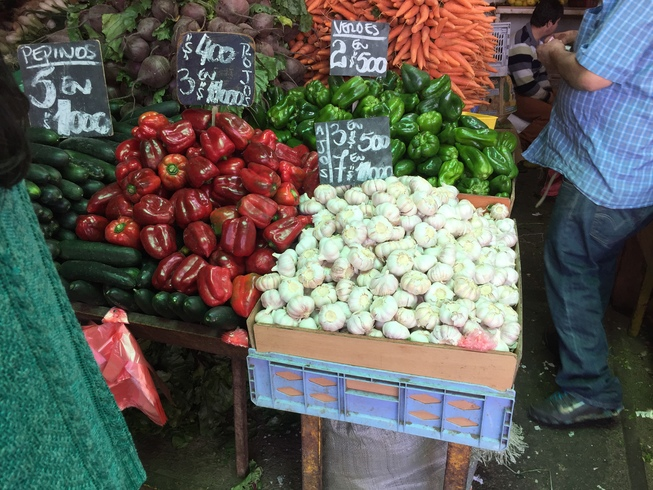precio: (22, 39, 112, 136), (179, 34, 256, 112), (315, 117, 395, 187), (329, 21, 390, 79)
